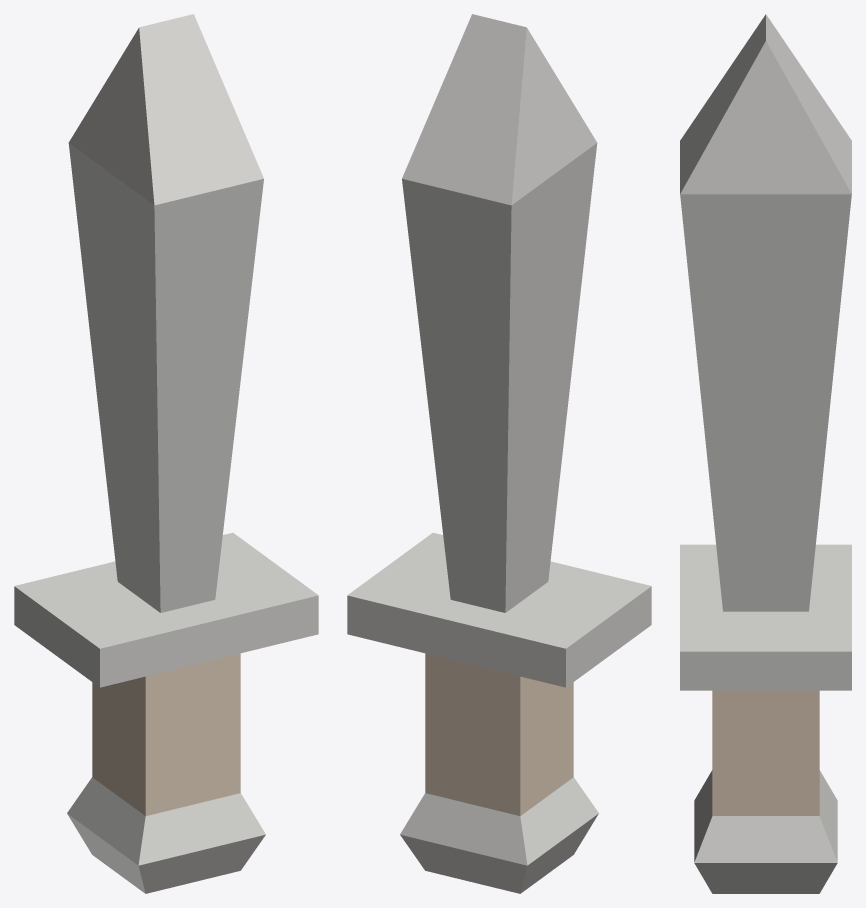
The model's file is sword.glb.
3 views of the same model, side by side, from view 1: azimuth 30°, elevation 25°; view 2: azimuth 150°, elevation 25°; view 3: azimuth 270°, elevation 25° (orthographic).
Visible parts, largest first — view 1: sword; view 2: sword; view 3: sword.
Part boxes in pixels (x1,y1,x2,y2): sword: [14, 14, 318, 893]; sword: [347, 14, 651, 893]; sword: [680, 14, 851, 893].
Bounding box in the file's own units: 0.9901 × 3.64 × 0.672.
